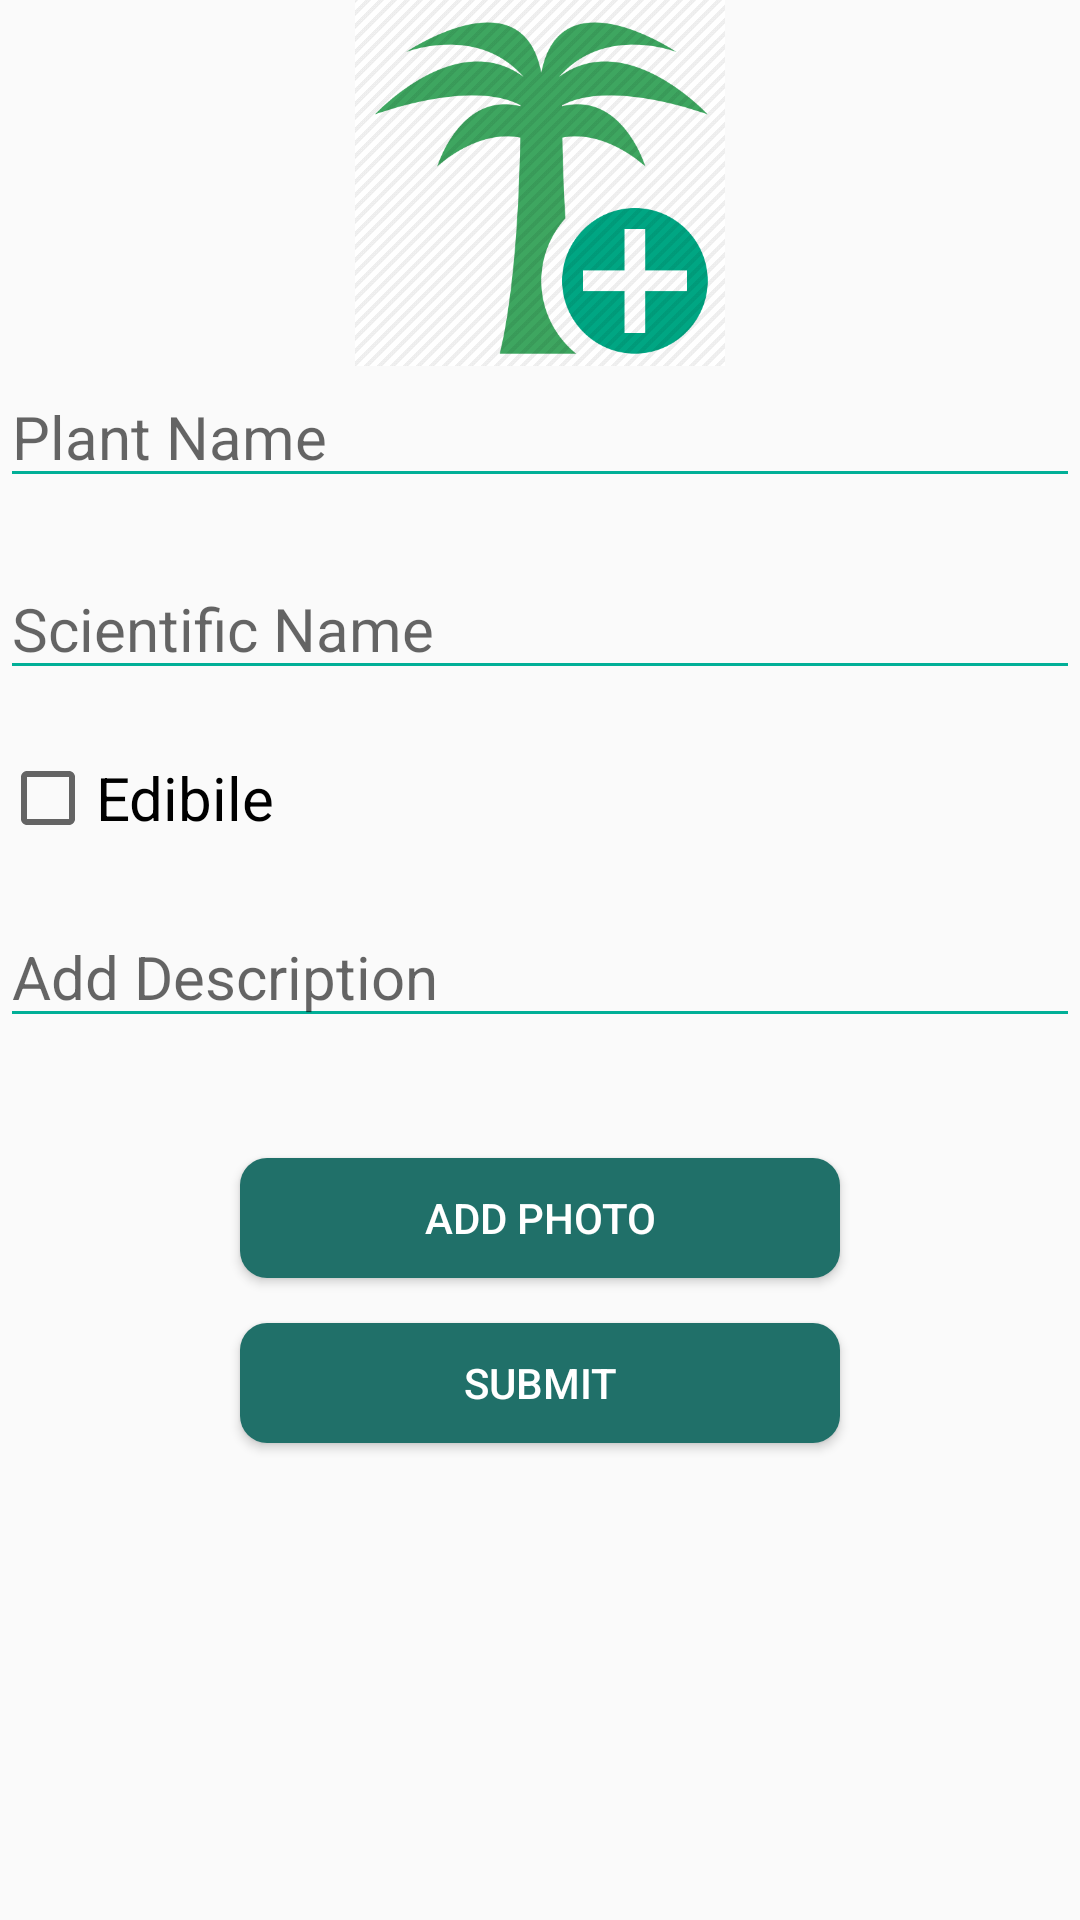

Icons on this 1080px x 1920px Android screen, each with the point to tap as [x,y]:
plant add: [541,188]
